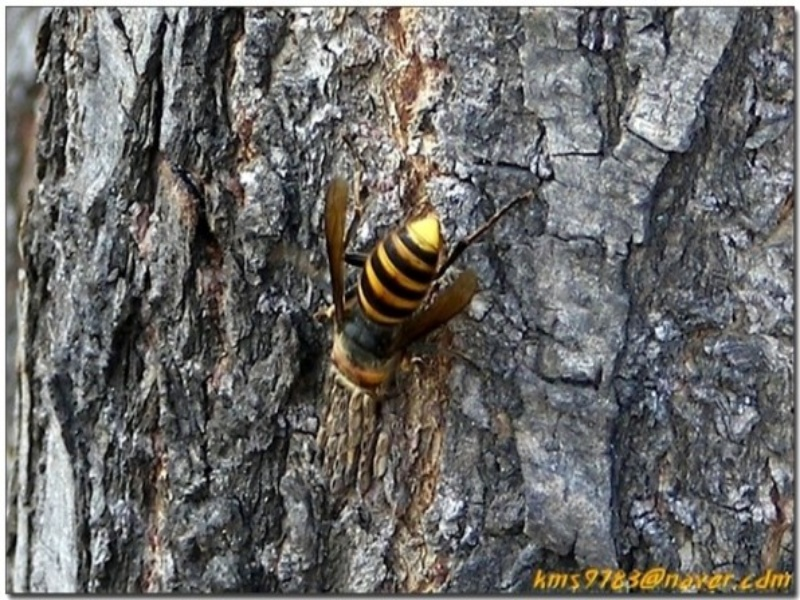asian_giant_hornet: (321, 212, 464, 393)
